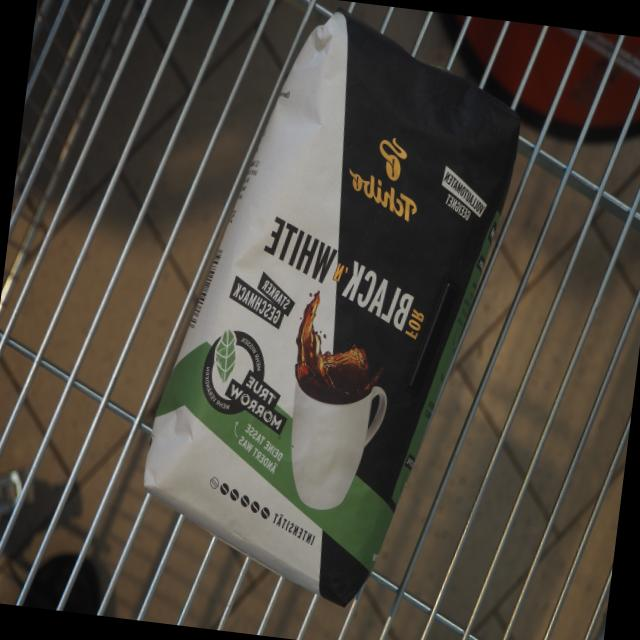BW Bohne: (125, 0, 538, 629)
